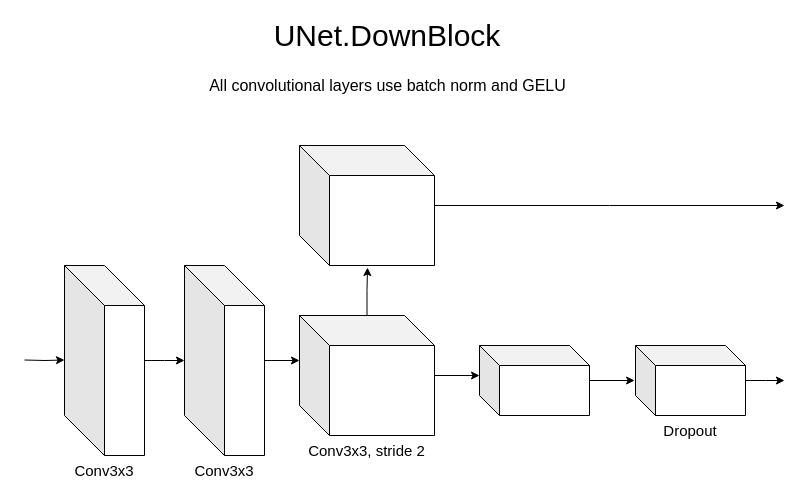
Image size: 810x497. Some labels were removed from this diagram. Each missing label, with the centre of its shape:
Concatenation (out): (x=366, y=205)
MaxPool2x2: (x=534, y=380)
